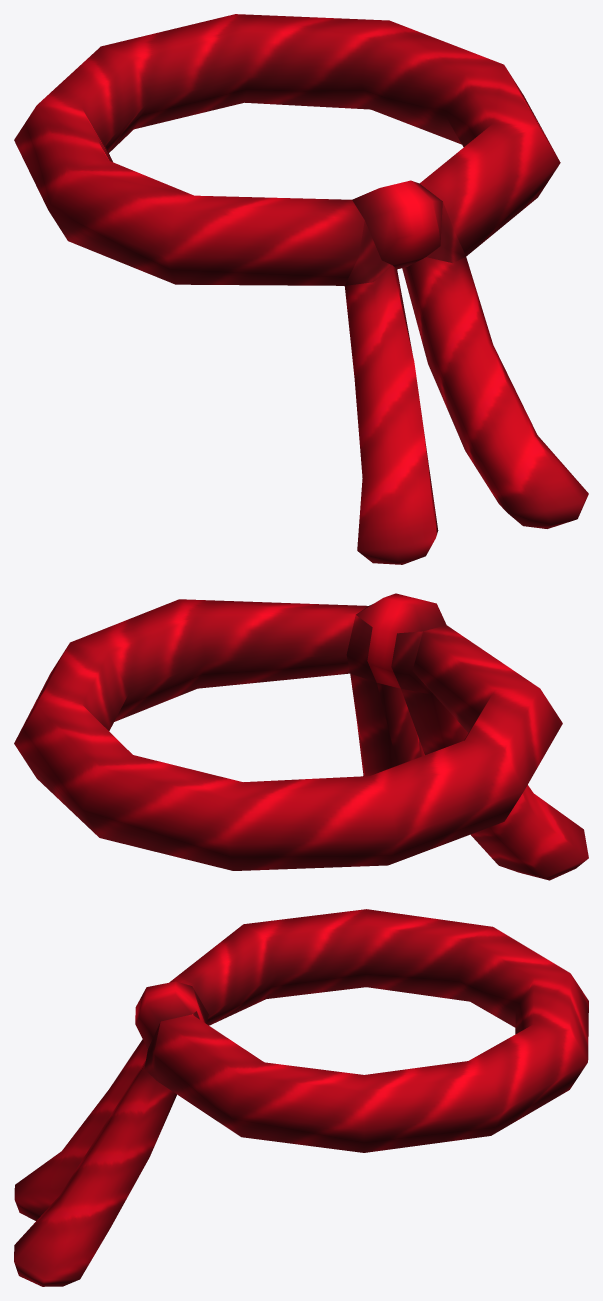
Rendered from Potion_A_M_String.fbx.
3 views of the same model, one above another, from view 1: azimuth 30°, elevation 25°; view 2: azimuth 150°, elevation 25°; view 3: azimuth 270°, elevation 25° (orthographic). The views are drawn at different scales.
Parts seen in each view (by area): view 1: Potion_A_M_String; view 2: Potion_A_M_String; view 3: Potion_A_M_String.
Part boxes in pixels (x1,y1,x2,y2): Potion_A_M_String: (14, 14, 588, 564); Potion_A_M_String: (14, 593, 588, 880); Potion_A_M_String: (14, 909, 588, 1286).
Bounding box in the file's own units: 27.56 × 17.04 × 33.66.
Materials: 1 (1 with a texture image).
